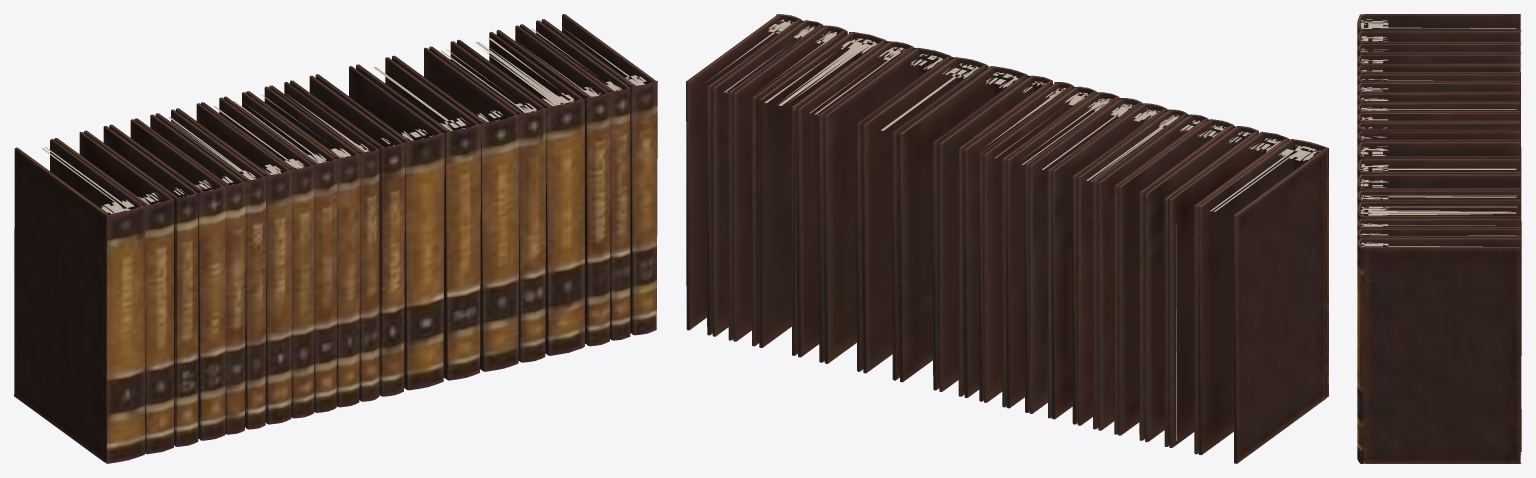
File: book_encyclopedia_set_01.glb
The picture shows the model from 3 angles, left to right: view 1: azimuth 30°, elevation 25°; view 2: azimuth 150°, elevation 25°; view 3: azimuth 270°, elevation 25°; orthographic projection. The views are drawn at different scales.
Visible parts, largest first — view 1: book_encyclopedia_set_01_book01; view 2: book_encyclopedia_set_01_book01; view 3: book_encyclopedia_set_01_book01.
Part boxes in pixels (x1,y1,x2,y2): book_encyclopedia_set_01_book01: (14, 14, 657, 463); book_encyclopedia_set_01_book01: (686, 14, 1328, 463); book_encyclopedia_set_01_book01: (1357, 14, 1521, 463).
Size of the model in its own units: 0.5531 by 0.2374 by 0.1636.
2 materials, 2 textured.
